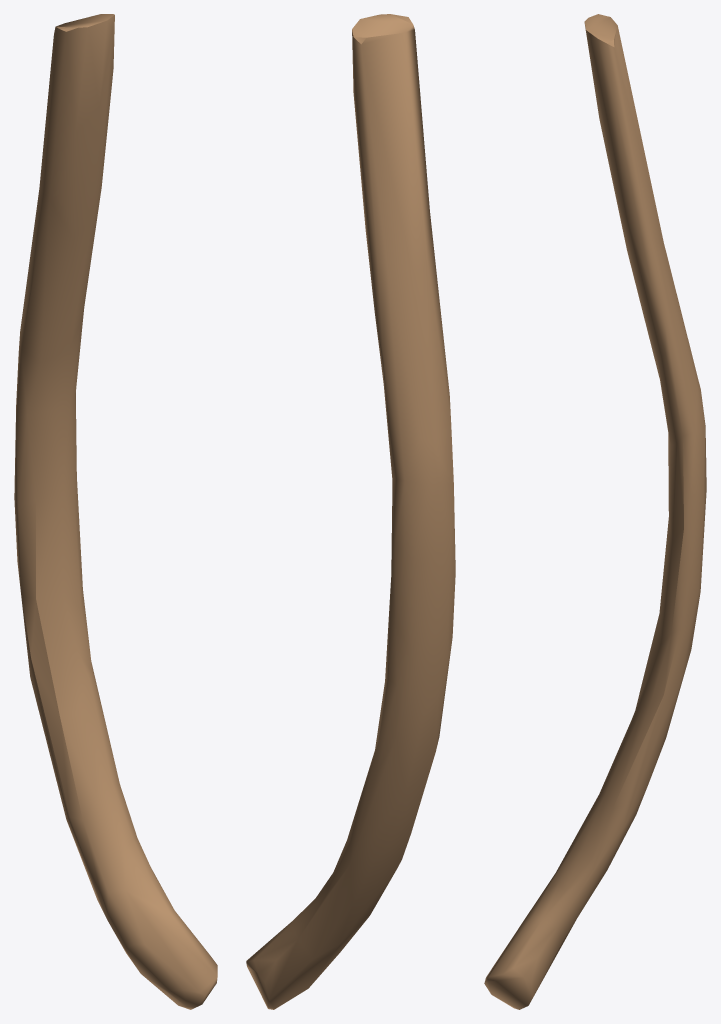
The model's file is esophagus.glb.
The picture shows the model from 3 angles, left to right: view 1: azimuth 30°, elevation 25°; view 2: azimuth 210°, elevation 25°; view 3: azimuth 270°, elevation 25°; orthographic projection. The views are drawn at different scales.
Visible parts, largest first — view 1: esophagus; view 2: esophagus; view 3: esophagus.
Part boxes in pixels (box(x1,y1,x2,y2)): esophagus: box(14, 14, 217, 1009); esophagus: box(246, 14, 455, 1009); esophagus: box(484, 14, 706, 1009).
Bounding box in the file's own units: 0.0322 × 0.2744 × 0.0579.
